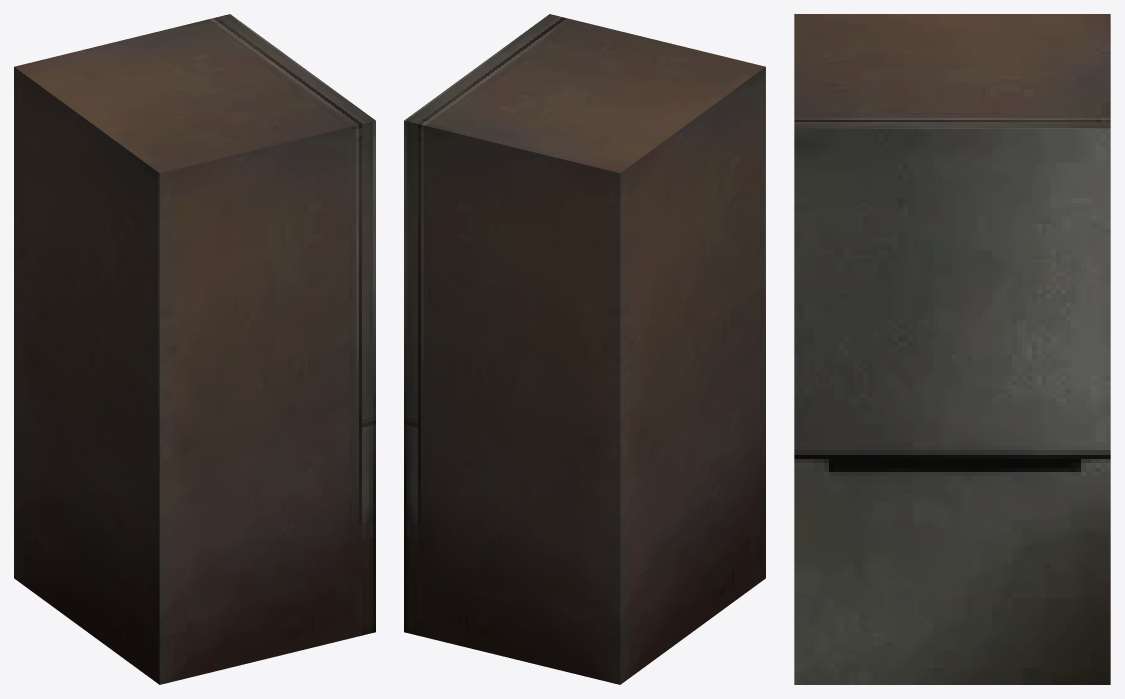
The model's file is f_fridge.glb.
3 views of the same model, side by side, from view 1: azimuth 30°, elevation 25°; view 2: azimuth 150°, elevation 25°; view 3: azimuth 270°, elevation 25° (orthographic). The views are drawn at different scales.
Parts seen in each view (by area): view 1: Fridge; view 2: Fridge; view 3: Fridge.
Part boxes in pixels (box(x1,y1,x2,y2)): Fridge: box(14, 14, 375, 684); Fridge: box(404, 14, 765, 684); Fridge: box(794, 14, 1110, 684).
Size of the model in its own units: 0.84 by 1.9 by 0.98.
1 material, 1 textured.
